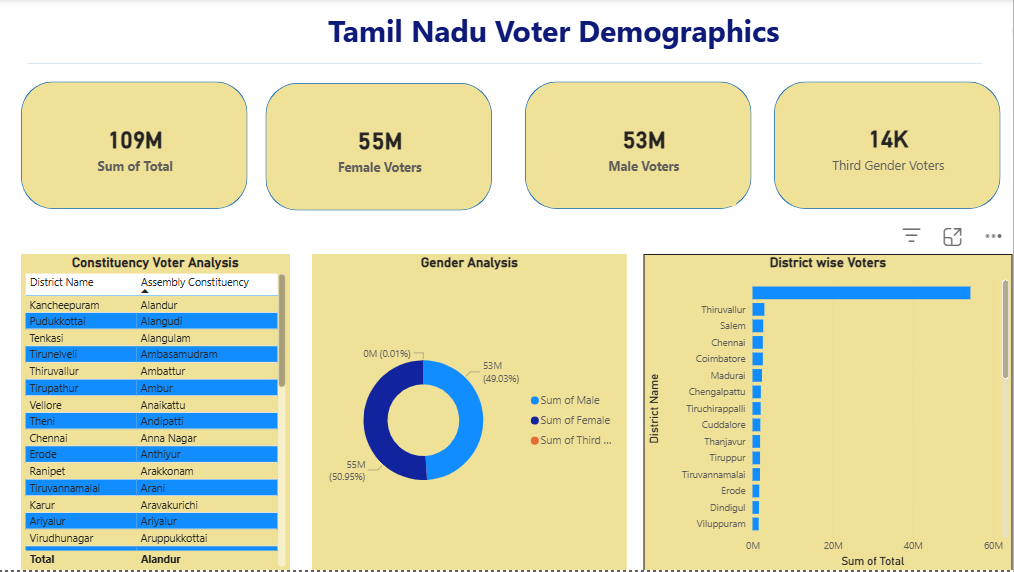

What the dashboard file says about the page in this screenshot:
{"tool":"powerbi","page":{"name":"Page 1","canvas":[1280,720],"ordinal":0},"visuals":[{"type":"card","title":"Total Female voters","fields":{"Values":["Sum(b6d380ab-5f03-45ad-b4cf-c1459dab9414.Female)"]},"box":[359.1,115.3,247.6,138],"z":0},{"type":"shape","box":[30.2,103.9,285.4,160.6],"z":1000},{"type":"card","fields":{"Values":["Sum(b6d380ab-5f03-45ad-b4cf-c1459dab9414.Total)"]},"box":[60.5,113.4,226.8,145.5],"z":2000},{"type":"card","fields":{"Values":["Sum(b6d380ab-5f03-45ad-b4cf-c1459dab9414.Male)"]},"box":[687.9,115.3,240,145.5],"z":3000},{"type":"shape","box":[338.3,105.8,285.4,160.6],"z":4000},{"type":"shape","box":[665.2,103.9,285.4,160.6],"z":5000},{"type":"shape","box":[978.9,103.9,285.4,160.6],"z":6000},{"type":"card","fields":{"Values":["Sum(b6d380ab-5f03-45ad-b4cf-c1459dab9414.Female)"]},"box":[368.5,113.4,226.8,147.4],"z":7000},{"type":"card","fields":{"Values":["Sum(b6d380ab-5f03-45ad-b4cf-c1459dab9414.Male)"]},"box":[697.3,111.5,234.3,149.3],"z":8000},{"type":"card","fields":{"Values":["Sum(b6d380ab-5f03-45ad-b4cf-c1459dab9414.Third Gender)"]},"box":[1012.9,113.4,219.2,141.7],"z":9000},{"type":"tableEx","title":"Constituency Voter Analysis","fields":{"Values":["b6d380ab-5f03-45ad-b4cf-c1459dab9414.District Name","Min(b6d380ab-5f03-45ad-b4cf-c1459dab9414.Name of Assembly Constituency)"]},"box":[30.2,321.3,338.3,398.7],"z":10002},{"type":"donutChart","title":"Gender Analysis","fields":{"Y":["Sum(b6d380ab-5f03-45ad-b4cf-c1459dab9414.Male)","Sum(b6d380ab-5f03-45ad-b4cf-c1459dab9414.Female)","Sum(b6d380ab-5f03-45ad-b4cf-c1459dab9414.Third Gender)"]},"box":[396.9,321.3,396.9,398.7],"z":10003},{"type":"barChart","title":"District wise Voters","fields":{"Category":["b6d380ab-5f03-45ad-b4cf-c1459dab9414.District Name"],"Y":["Sum(b6d380ab-5f03-45ad-b4cf-c1459dab9414.Total)"]},"box":[814.5,321.3,464.9,398.7],"z":10004},{"type":"shape","box":[0,0,1279.4,81.3],"z":10005},{"type":"textbox","box":[0,0,1279.4,81.3],"z":10006}]}

Visuals, with their boxes in screenshot pixels (x1, y1, x2, y2), scaled from the page's 1280x720 canvas onto the 1014x572 screenshot:
"Total Female voters" card: bbox=(284, 92, 481, 201)
shape: bbox=(24, 83, 250, 210)
card - Sum(b6d380ab-5f03-45ad-b4cf-c1459dab9414.Total): bbox=(48, 90, 228, 206)
card - Sum(b6d380ab-5f03-45ad-b4cf-c1459dab9414.Male): bbox=(545, 92, 735, 207)
shape: bbox=(268, 84, 494, 212)
shape: bbox=(527, 83, 753, 210)
shape: bbox=(775, 83, 1002, 210)
card - Sum(b6d380ab-5f03-45ad-b4cf-c1459dab9414.Female): bbox=(292, 90, 472, 207)
card - Sum(b6d380ab-5f03-45ad-b4cf-c1459dab9414.Male): bbox=(552, 89, 738, 207)
card - Sum(b6d380ab-5f03-45ad-b4cf-c1459dab9414.Third Gender): bbox=(802, 90, 976, 203)
"Constituency Voter Analysis" tableEx: bbox=(24, 255, 292, 571)
"Gender Analysis" donutChart: bbox=(314, 255, 629, 571)
"District wise Voters" barChart: bbox=(645, 255, 1013, 571)
shape: bbox=(0, 0, 1013, 65)
textbox: bbox=(0, 0, 1013, 65)
